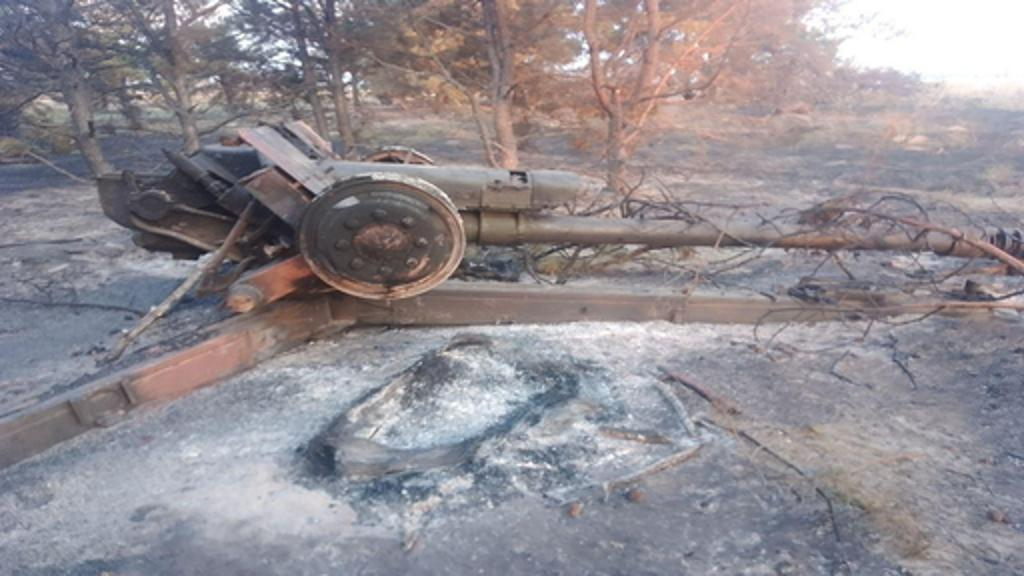ART: (94, 116, 1022, 332)
